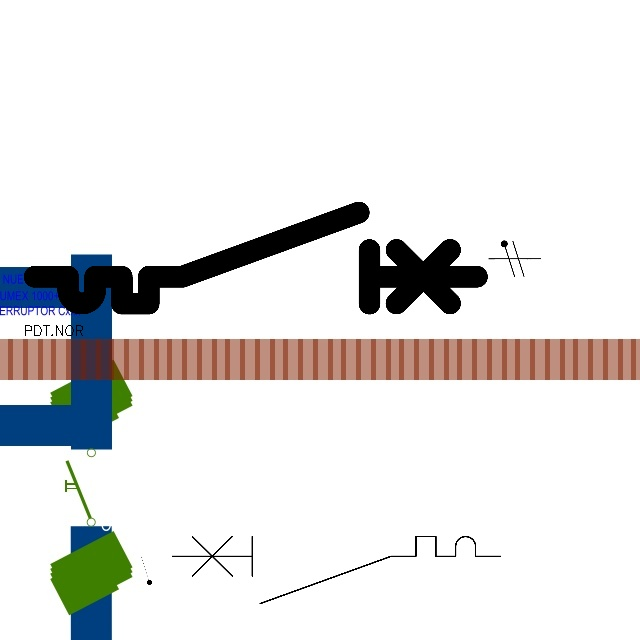interruptor_termomagnetico: (23, 201, 488, 315), (164, 528, 509, 612)
